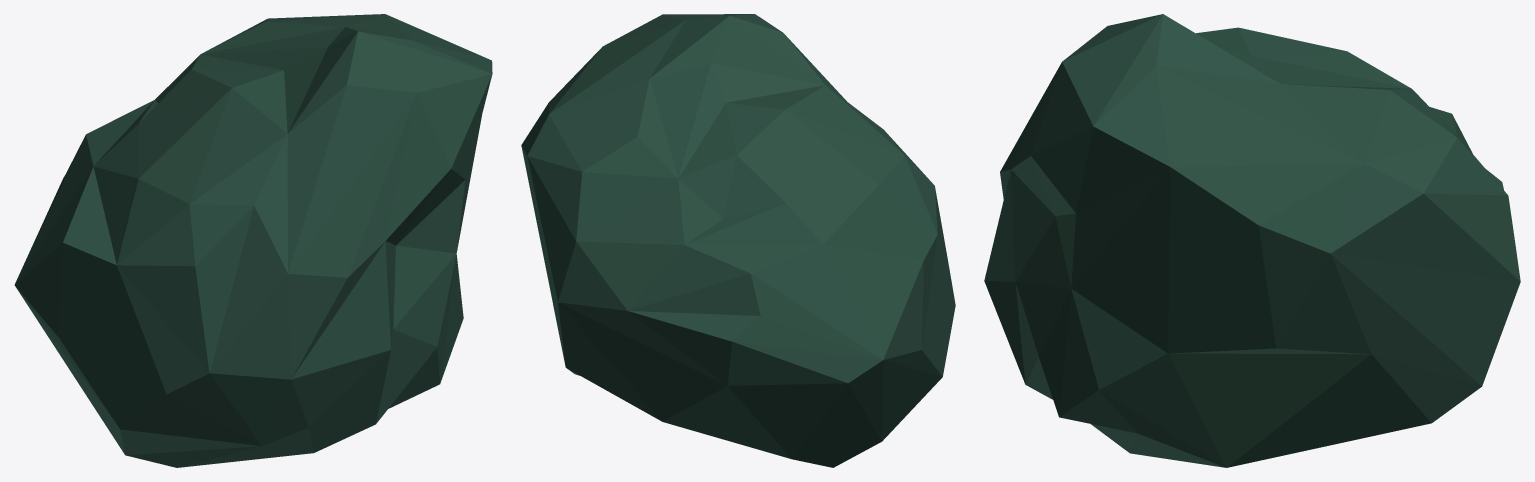
The model's file is SM_large_rock_22.fbx.
3 views of the same model, side by side, from view 1: azimuth 30°, elevation 25°; view 2: azimuth 150°, elevation 25°; view 3: azimuth 270°, elevation 25° (orthographic). The views are drawn at different scales.
Parts seen in each view (by area): view 1: large_rock_22; view 2: large_rock_22; view 3: large_rock_22.
Boxes of the visible parts, left/top/right/bottom form: large_rock_22: left=14, top=14, right=492, bottom=467; large_rock_22: left=521, top=14, right=955, bottom=467; large_rock_22: left=984, top=14, right=1520, bottom=467.
Size of the model in its own units: 64.58 by 62.43 by 62.14.
